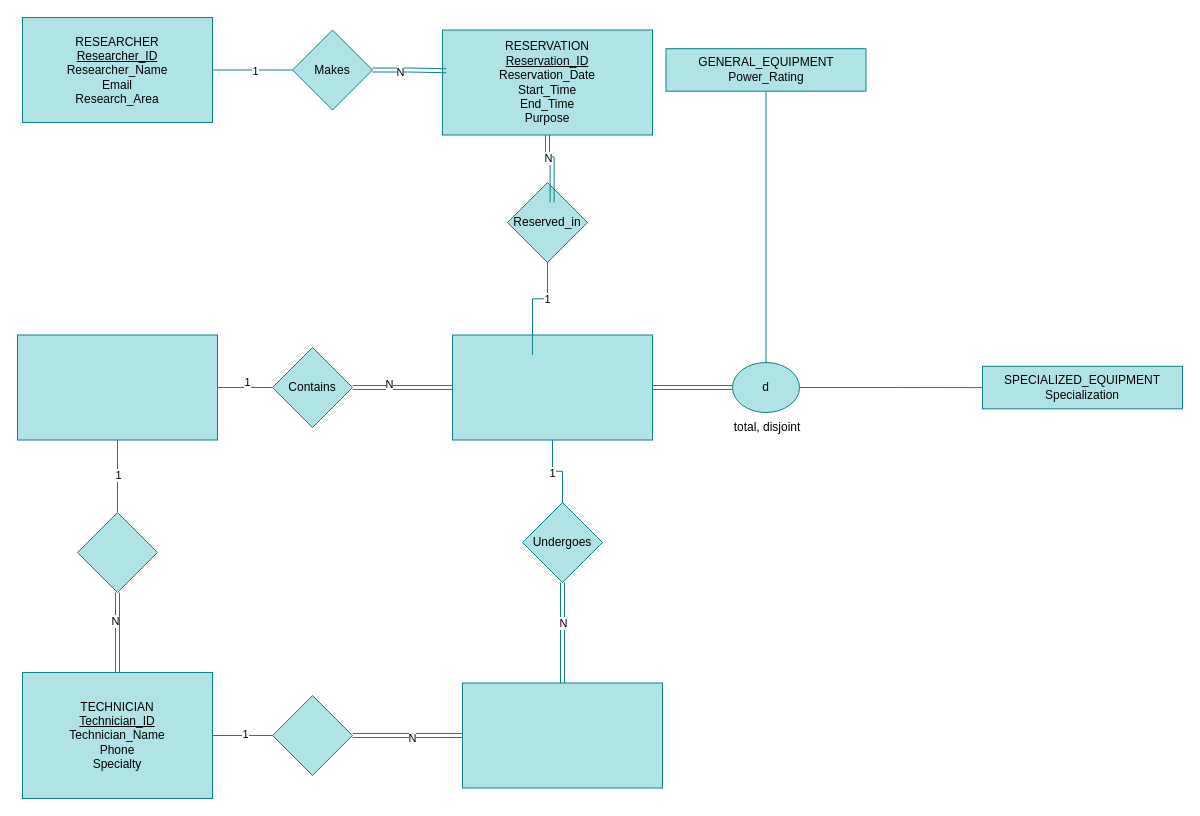
Some shapes in this 1200 by 816 pixel diagram are drawn without their labels. Each missing label, with the centre of its shape:
Employs: the point at 117,552
EQUIPMENT Equipment_ID Equipment_Name Purchase_Date Status: the point at 552,387
LABORATORY Lab_ID Lab_Name Building Capacity: the point at 117,387
MAINTENANCE Maintenance_ID Maintenance_Date Description Cost: the point at 562,735
performs: the point at 312,735
